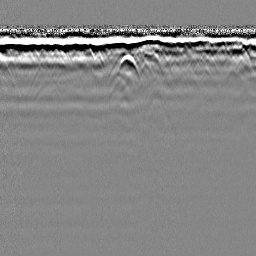cavity: (116, 52, 140, 76)
